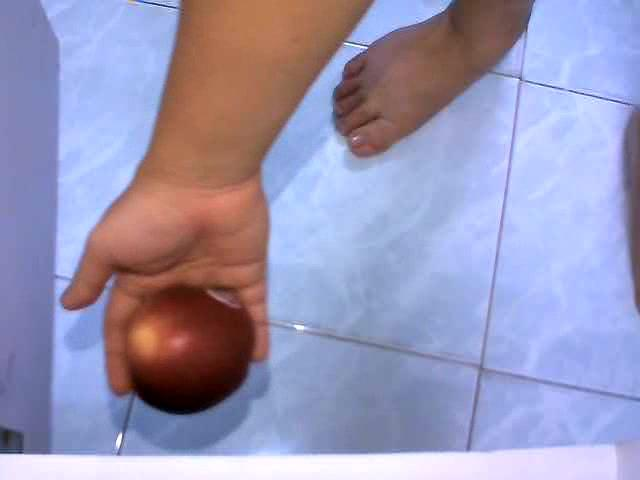apple: (123, 284, 257, 417)
